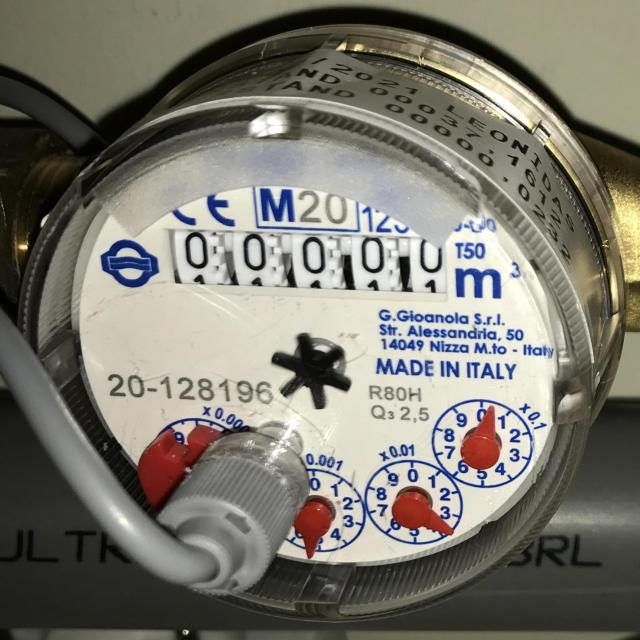gaz_meter: (92, 154, 544, 569)
indication: (170, 229, 447, 297)
